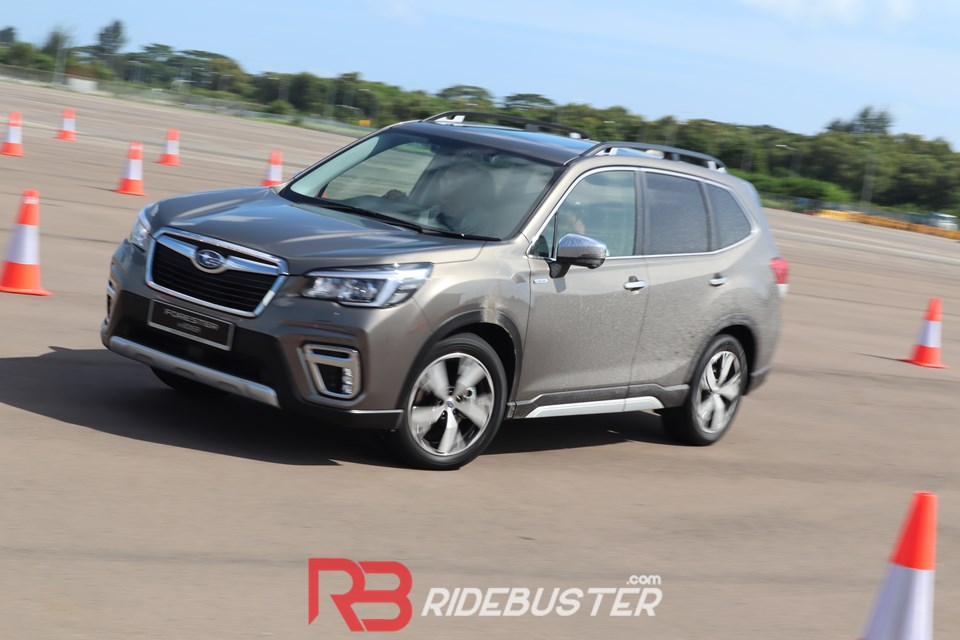pickup: (101, 109, 793, 468)
